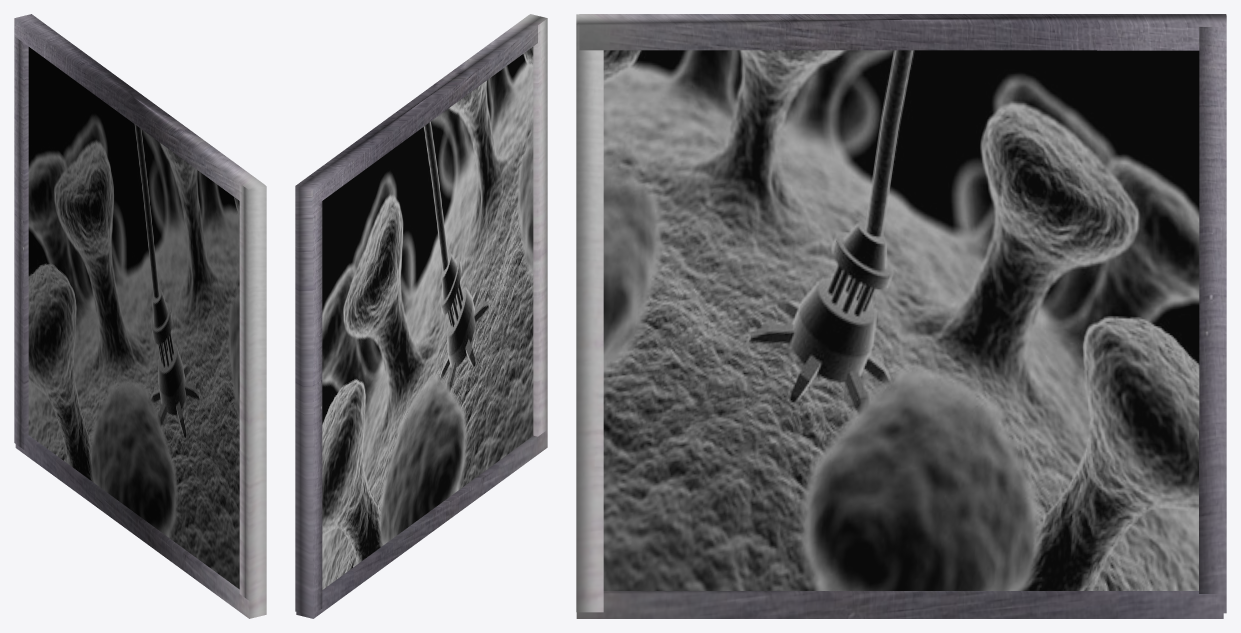
The model's file is cuadre2.fbx.
3 renders of one model, left to right at view 1: azimuth 30°, elevation 25°; view 2: azimuth 150°, elevation 25°; view 3: azimuth 270°, elevation 25°, orthographic. The views are drawn at different scales.
Visible parts, largest first — view 1: Cube, Cube_002; view 2: Cube, Cube_002; view 3: Cube, Cube_002.
Part boxes in pixels (x1,y1,x2,y2): Cube: (28, 47, 239, 589); Cube_002: (14, 14, 266, 618); Cube: (322, 47, 533, 589); Cube_002: (295, 14, 547, 618); Cube: (603, 50, 1199, 590); Cube_002: (576, 14, 1226, 618).
Bounding box in the file's own units: 0.132 × 3.15 × 3.13.
5 materials, 5 textured.
